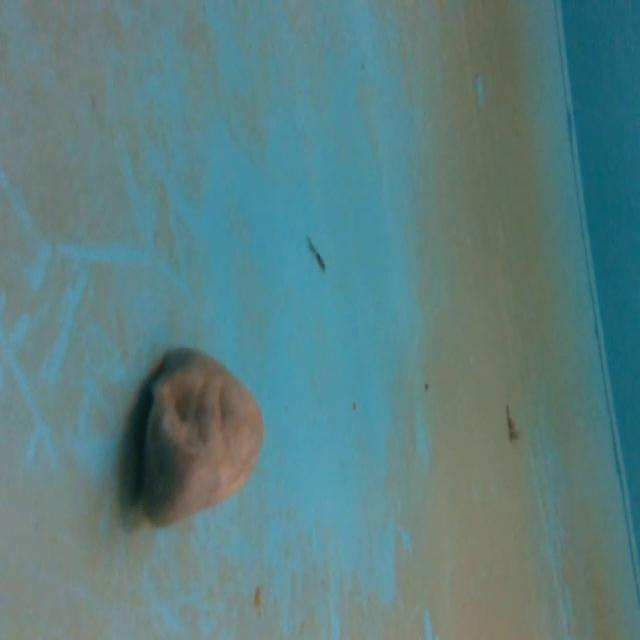rock: (136, 336, 273, 545)
